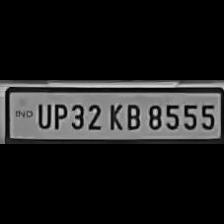2: (84, 100, 104, 132)
3: (68, 100, 84, 130)
5: (162, 102, 180, 131), (198, 102, 216, 131), (180, 101, 196, 129)
8: (144, 102, 162, 131)
B: (122, 100, 142, 132)
K: (104, 100, 122, 132)
P: (50, 101, 68, 129)
U: (33, 100, 51, 130)
